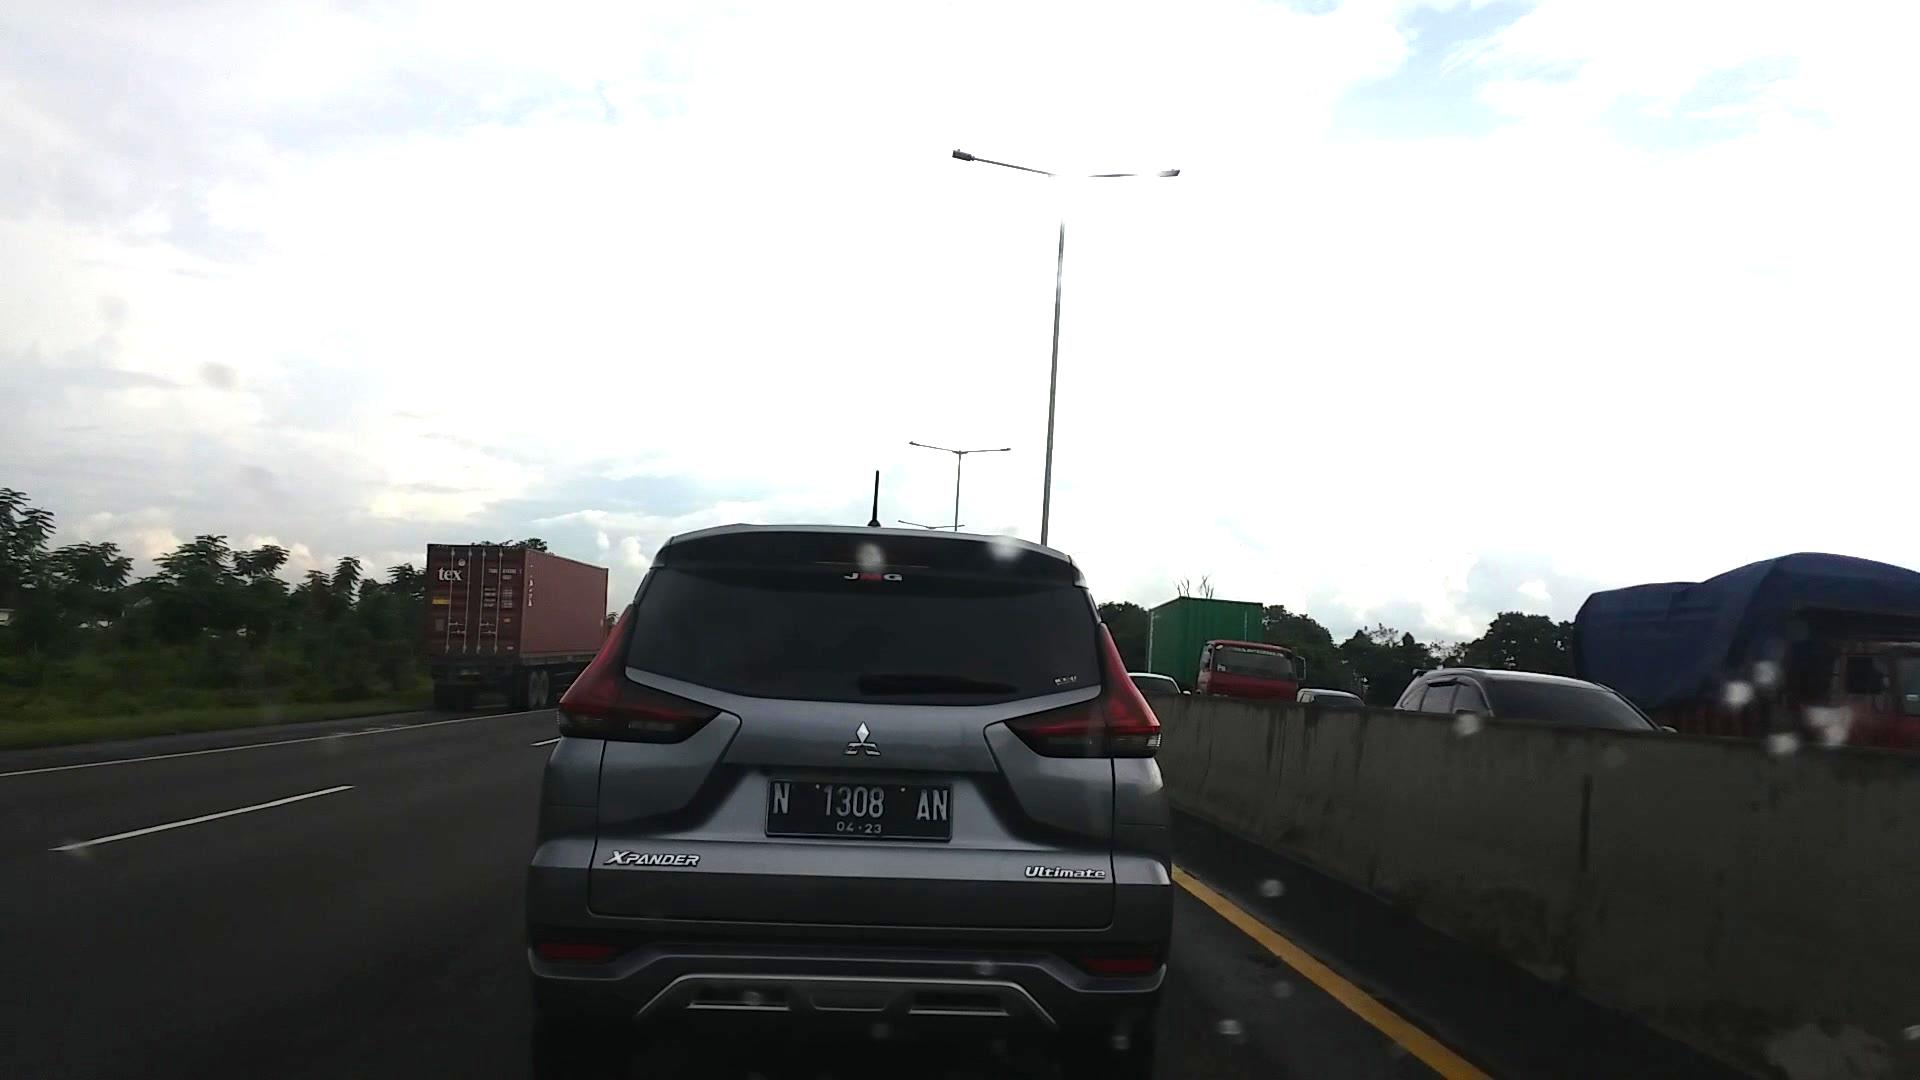plate_positive: (765, 778, 952, 843)
